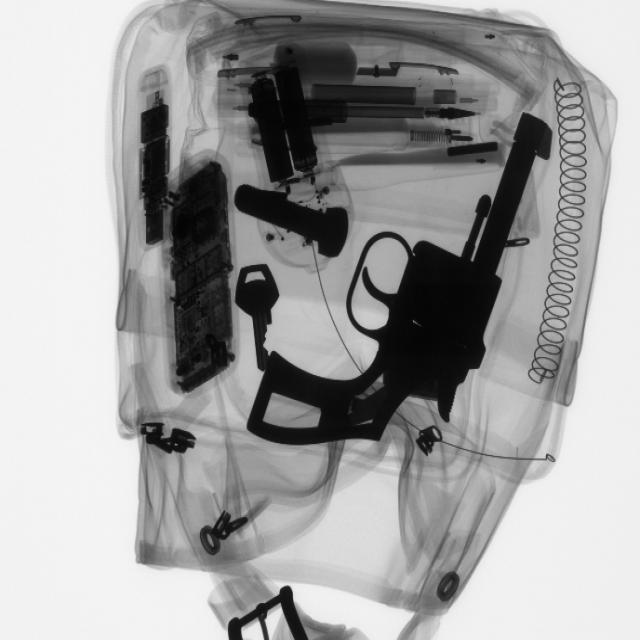GUN: (237, 118, 551, 464)
